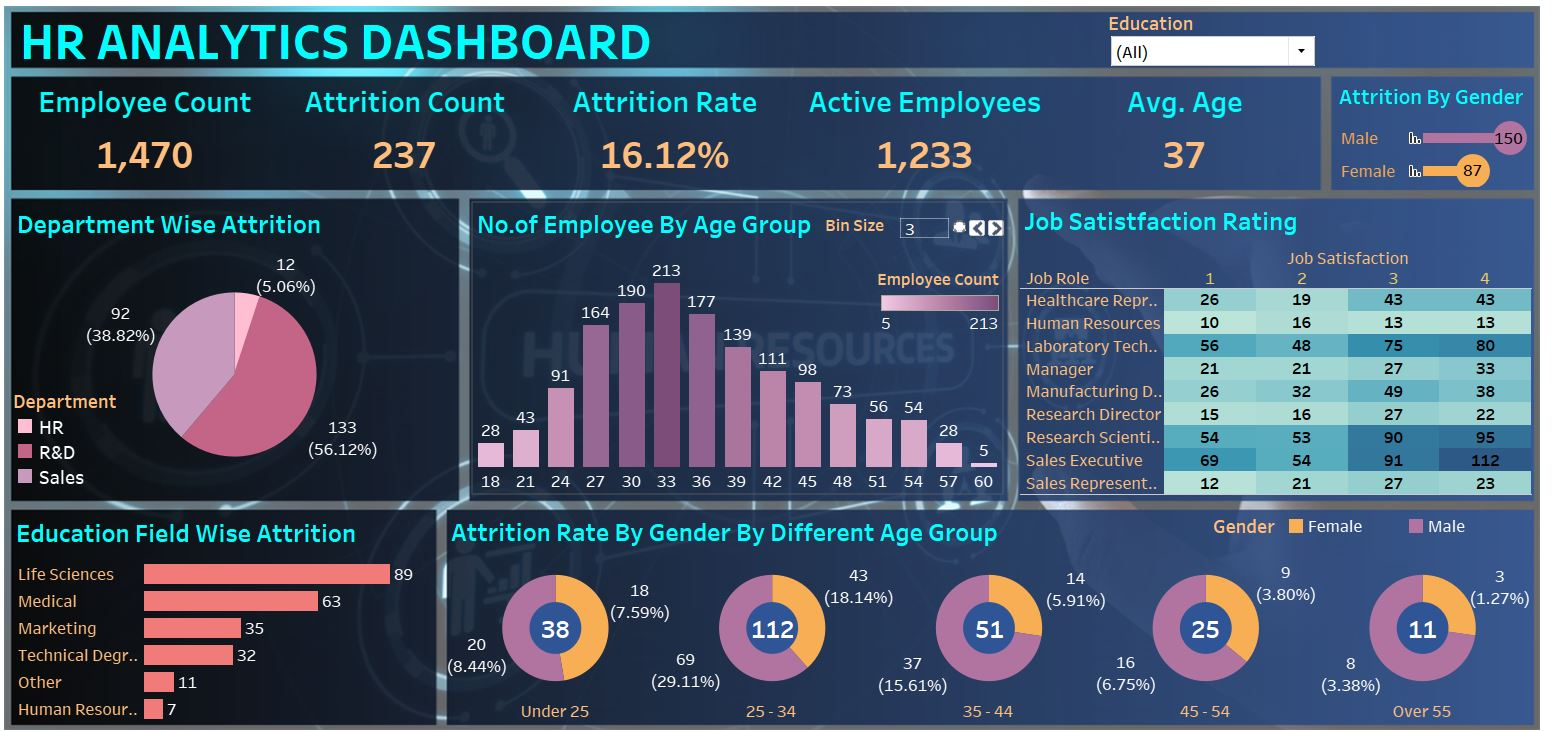

What the dashboard file says about the page in this screenshot:
{"tool":"tableau","page":{"name":"HR Ananlytics Dashboard","canvas":[1560,755],"ordinal":0},"visuals":[{"type":"image","param":"Image/Slide1.png","box":[8,8,1544,739]},{"type":"filter","title":"Department Wise Attrition","param":"[federated.1yt8tah1bk98120zpm4yp1o5lyr6].[none:Education:nk]","box":[1118,21,210,51]},{"type":"text","box":[24,25,1080,47]},{"type":"worksheet","title":"Attrition By Gender","mark":"Automatic","rows":["Gender"],"cols":["Calculation_144396702740733952","Calculation_144396702740733952"],"box":[1343,87,196,109]},{"type":"worksheet","title":"KPI","mark":"Automatic","box":[23,90,1300,105]},{"type":"worksheet","title":"Job Satistfaction Rating","mark":"Square","rows":["Job Role"],"cols":["Job Satisfaction"],"box":[1028,209,512,295]},{"type":"worksheet","title":"Department Wise Attrition","mark":"Pie","box":[21,212,443,295]},{"type":"worksheet","title":"No.of Employee By Age Group","mark":"Automatic","rows":["Employee Count"],"cols":["Age (bin)"],"box":[481,212,529,290]},{"type":"parameter","param":"[Parameters].[Parameter 1]","box":[833,224,182,30]},{"type":"legend","title":"No.of Employee By Age Group","param":"[federated.1yt8tah1bk98120zpm4yp1o5lyr6].[sum:Employee Count:qk]","box":[885,277,126,67]},{"type":"legend","title":"Department Wise Attrition","param":"[federated.1yt8tah1bk98120zpm4yp1o5lyr6].[none:Department:nk]","box":[21,397,104,101]},{"type":"worksheet","title":"Attrition Rate By Gender By Different Age Group","mark":"Pie","rows":["Calculation_144396702987952132","Calculation_144396702987952132"],"cols":["CF_age band"],"box":[455,520,1084,212]},{"type":"worksheet","title":"Education Field Wise Attrition","mark":"Automatic","rows":["Education Field"],"cols":["Calculation_144396702740733952"],"box":[20,521,420,210]},{"type":"legend","title":"Attrition Rate By Gender By Different Age Group","param":"[federated.1yt8tah1bk98120zpm4yp1o5lyr6].[none:Gender:nk]","box":[1221,524,315,33]}]}

Visuals, with their boxes in screenshot pixels (x1, y1, x2, y2), scaled from the page's 1560x755 canvas onto the 1552x731 screenshot:
image: region(8, 8, 1544, 723)
"Department Wise Attrition" filter: region(1112, 20, 1321, 70)
text: region(24, 24, 1098, 70)
"Attrition By Gender" worksheet: region(1336, 84, 1531, 190)
"KPI" worksheet: region(23, 87, 1316, 189)
"Job Satistfaction Rating" worksheet (Square marks): region(1023, 202, 1532, 488)
"Department Wise Attrition" worksheet (Pie marks): region(21, 205, 462, 491)
"No.of Employee By Age Group" worksheet: region(479, 205, 1005, 486)
parameter: region(829, 217, 1010, 246)
"No.of Employee By Age Group" legend: region(880, 268, 1006, 333)
"Department Wise Attrition" legend: region(21, 384, 124, 482)
"Attrition Rate By Gender By Different Age Group" worksheet (Pie marks): region(453, 503, 1531, 709)
"Education Field Wise Attrition" worksheet: region(20, 504, 438, 708)
"Attrition Rate By Gender By Different Age Group" legend: region(1215, 507, 1528, 539)
